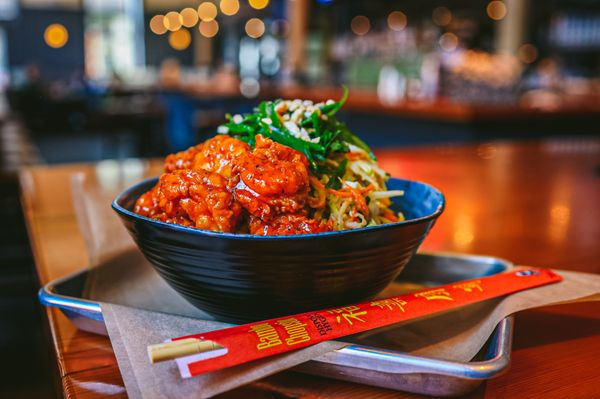sushi: (112, 97, 444, 321)
